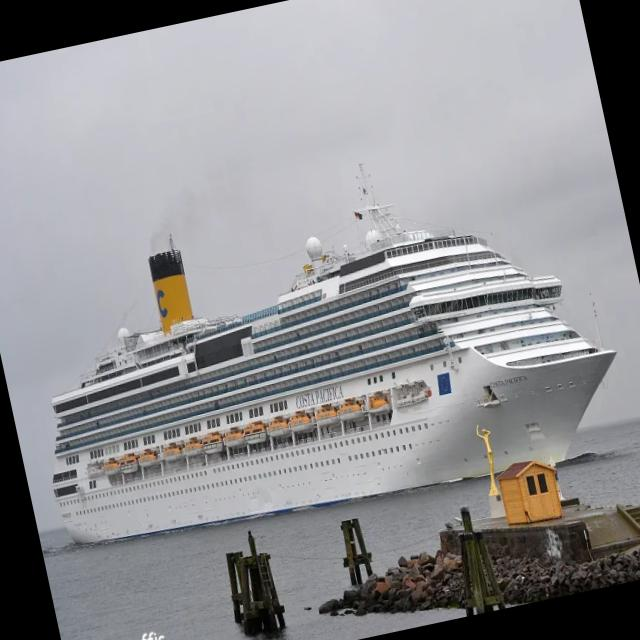Cruise: (52, 169, 615, 542)
